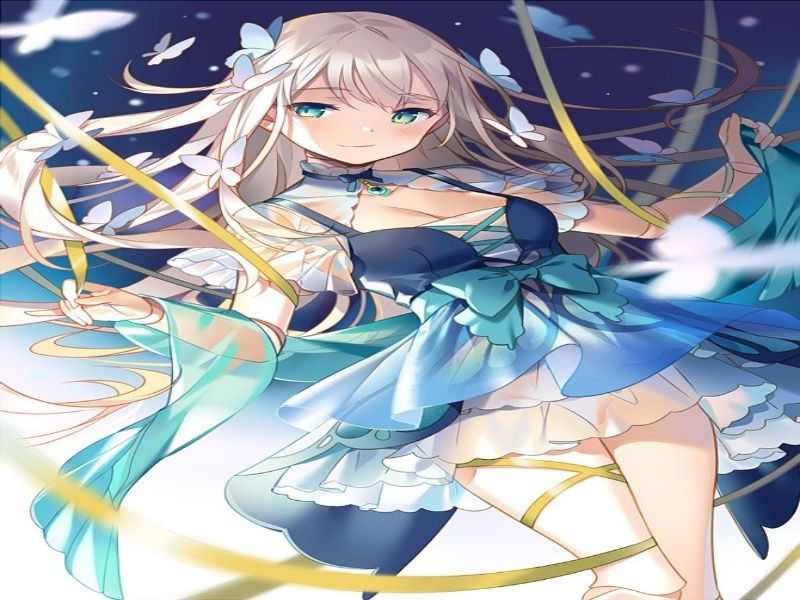person: (257, 56, 461, 178)
